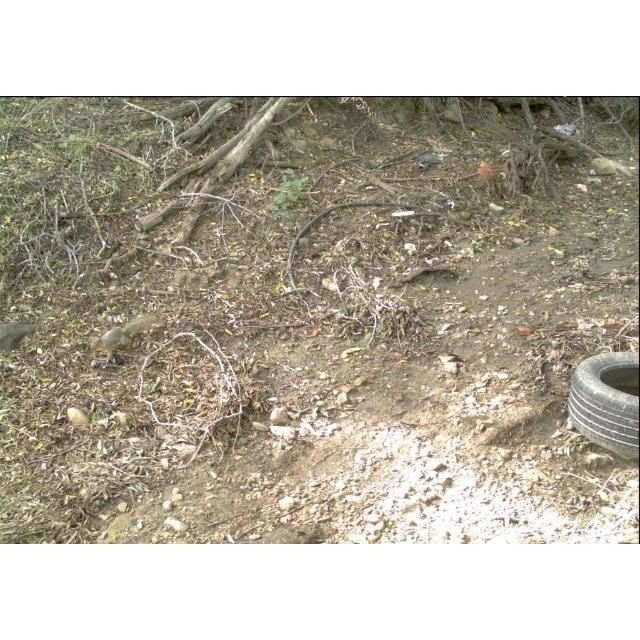animals: (88, 309, 164, 365)
